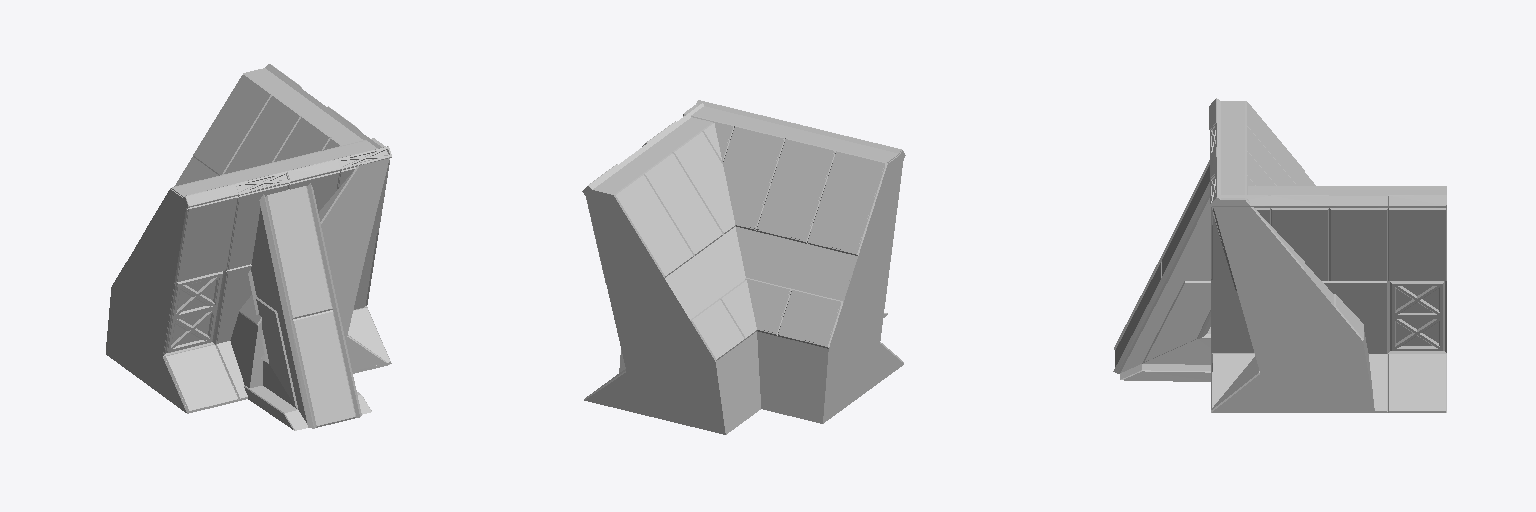
File: WallsStructure.obj
3 views of the same model, side by side, from view 1: azimuth 30°, elevation 25°; view 2: azimuth 150°, elevation 25°; view 3: azimuth 270°, elevation 25° (orthographic).
Parts seen in each view (by area): view 1: Wall_Structure_Corner_Cube.005, Wall_Structure_Wall_Cube.006, Wall_Structure_Pillar_Cube.004, Wall_Structure_InnerCorner_Cube.007; view 2: Wall_Structure_Corner_Cube.005, Wall_Structure_Wall_Cube.006; view 3: Wall_Structure_Corner_Cube.005, Wall_Structure_Wall_Cube.006, Wall_Structure_Pillar_Cube.004, Wall_Structure_InnerCorner_Cube.007.
Part boxes in pixels (x1,y1,x2,y2): Wall_Structure_Corner_Cube.005: (106, 64, 389, 413); Wall_Structure_Wall_Cube.006: (163, 138, 391, 412); Wall_Structure_Pillar_Cube.004: (244, 183, 371, 430); Wall_Structure_InnerCorner_Cube.007: (230, 158, 389, 387); Wall_Structure_Corner_Cube.005: (582, 103, 905, 434); Wall_Structure_Wall_Cube.006: (619, 100, 901, 372); Wall_Structure_Corner_Cube.005: (1209, 98, 1446, 412); Wall_Structure_Wall_Cube.006: (1210, 99, 1374, 412); Wall_Structure_Pillar_Cube.004: (1113, 160, 1210, 381); Wall_Structure_InnerCorner_Cube.007: (1211, 207, 1257, 407).
Bounding box in the file's own units: 101 × 102 × 142.